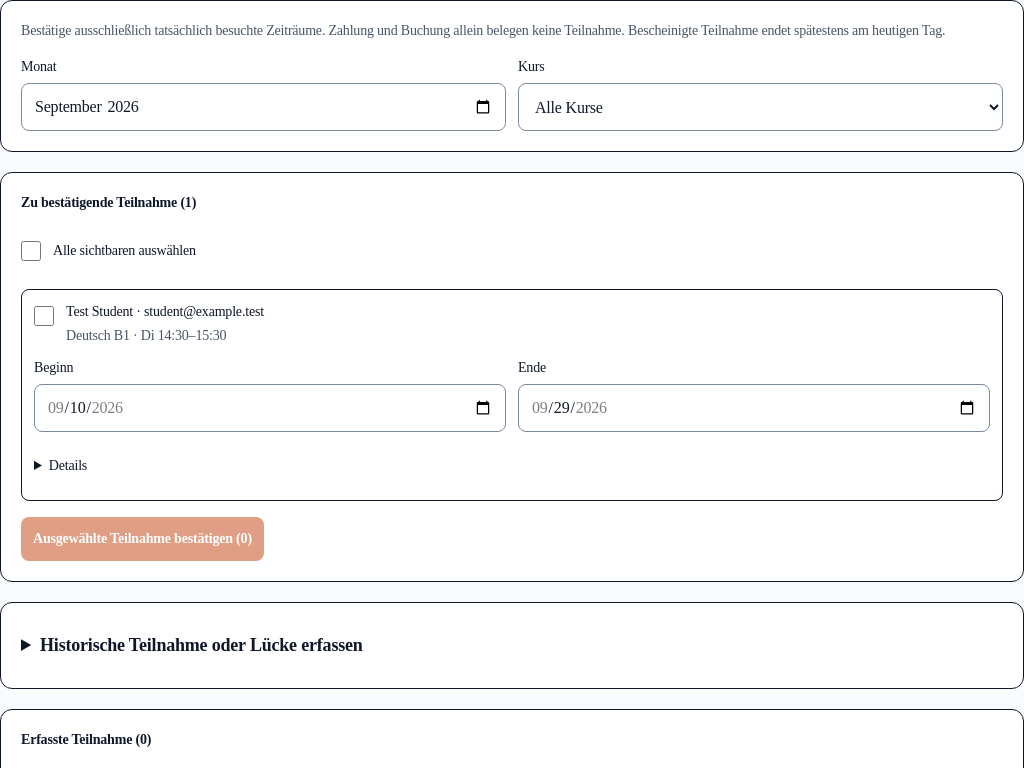
keeps bulk confirmation disabled until a teacher selects attendance and submits the corrected dates
Expected: the button "Ausgewählte Teilnahme bestätigen (0)" is disabled, [21, 517, 264, 561]
Click the checkbox labelled "Test Student" at (44, 316), box [34, 306, 54, 326]
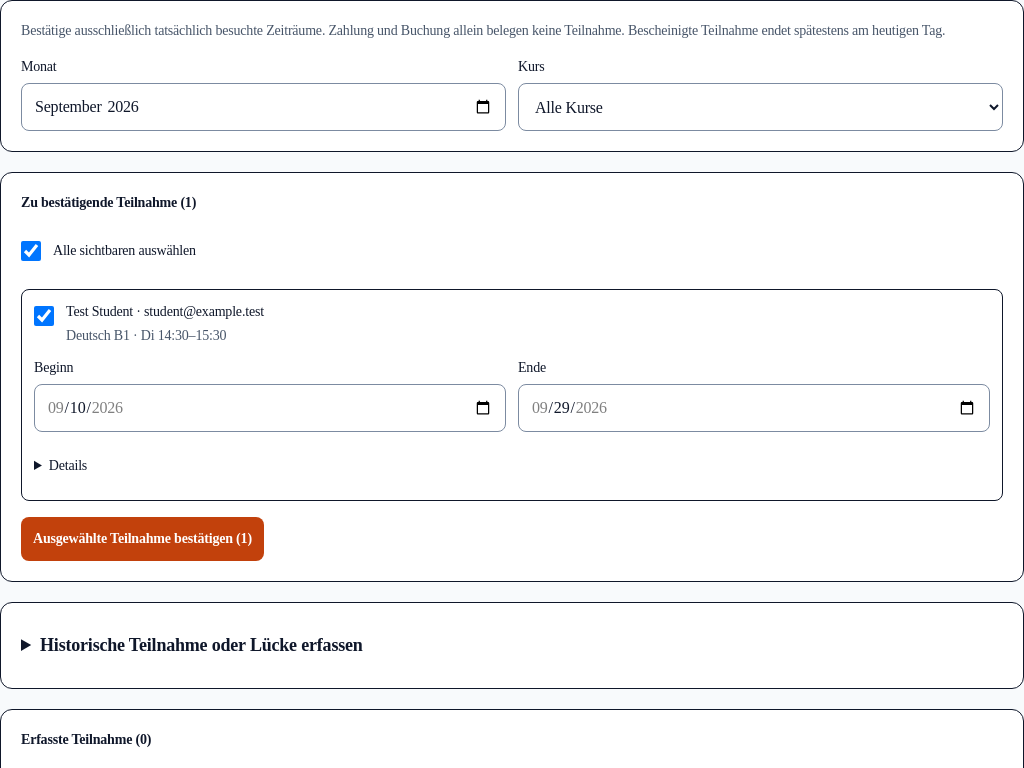
Expected: the button "Ausgewählte Teilnahme bestätigen (1)" is enabled, [21, 517, 264, 561]
Type "2026-09-12" into the date field labelled "Beginn" at (270, 408), box [34, 384, 506, 432]
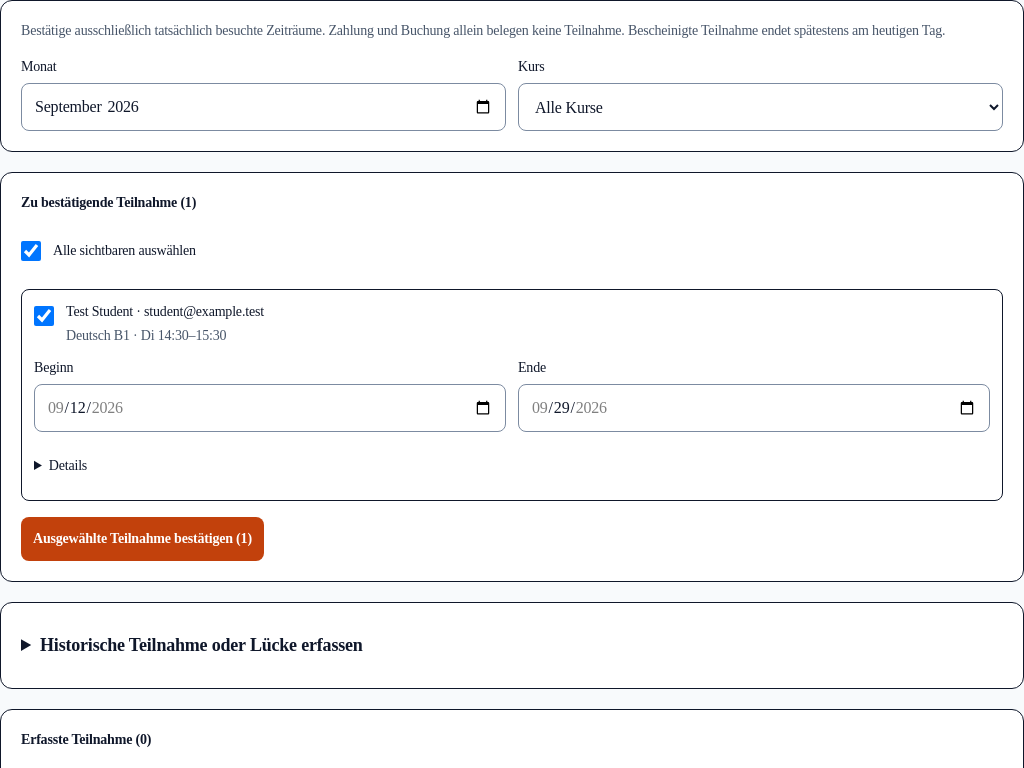
Click the button "Ausgewählte Teilnahme bestätigen (1)" at (142, 539), box [21, 517, 264, 561]
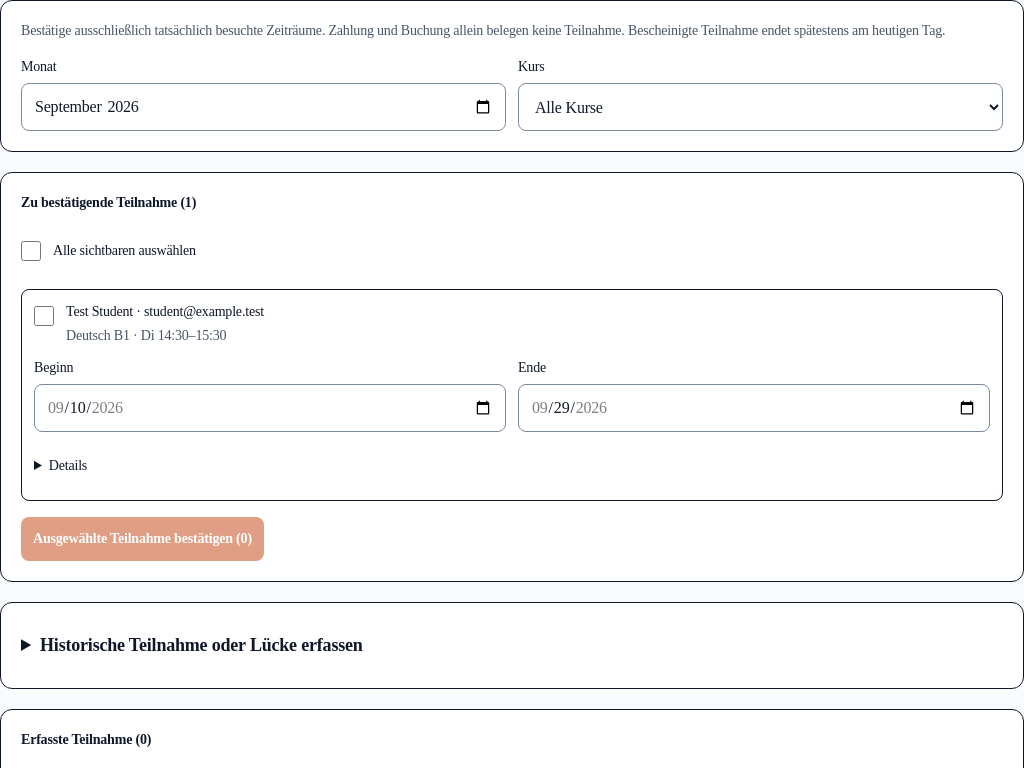
Expected: the button "Ausgewählte Teilnahme bestätigen (0)" is disabled, [21, 517, 264, 561]
